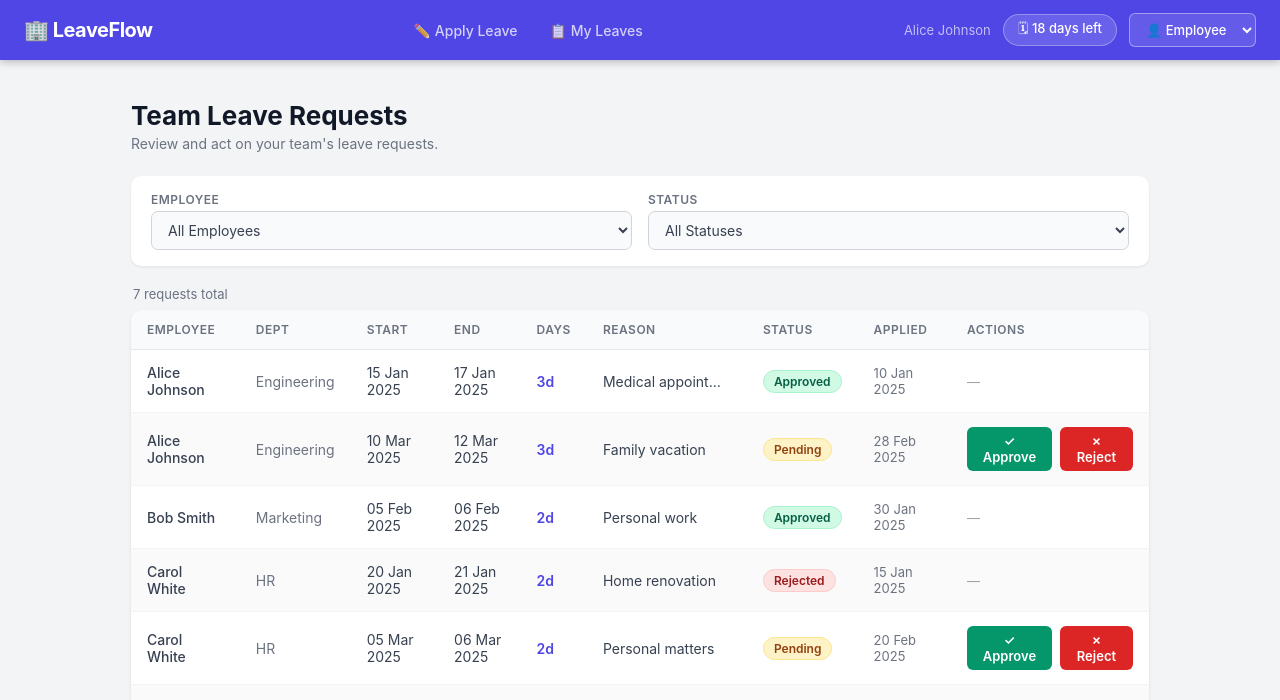
Leave Management – E2E Tests › Team Leaves – URL-driven filter persistence › loads a shared URL with pre-applied filters
Select "👔 Manager" in the dropdown with test id "role-switcher" at (1193, 30), box [1129,13,1256,47]
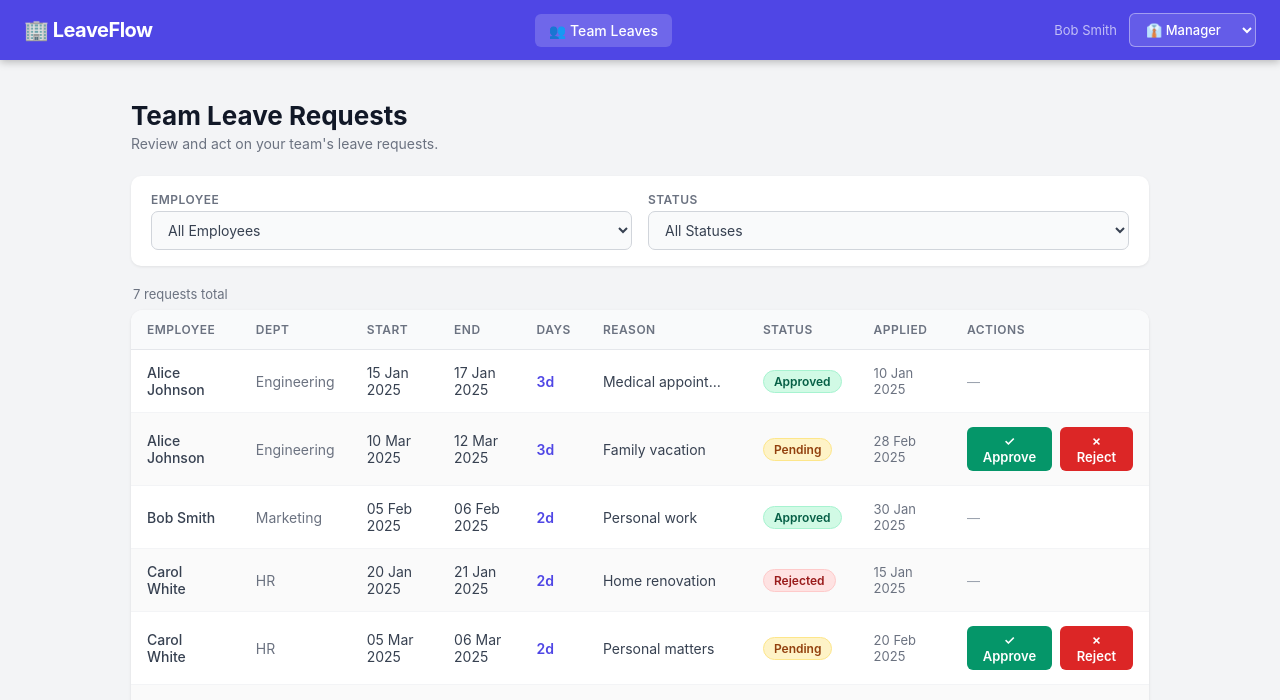
Open "/team-leaves"
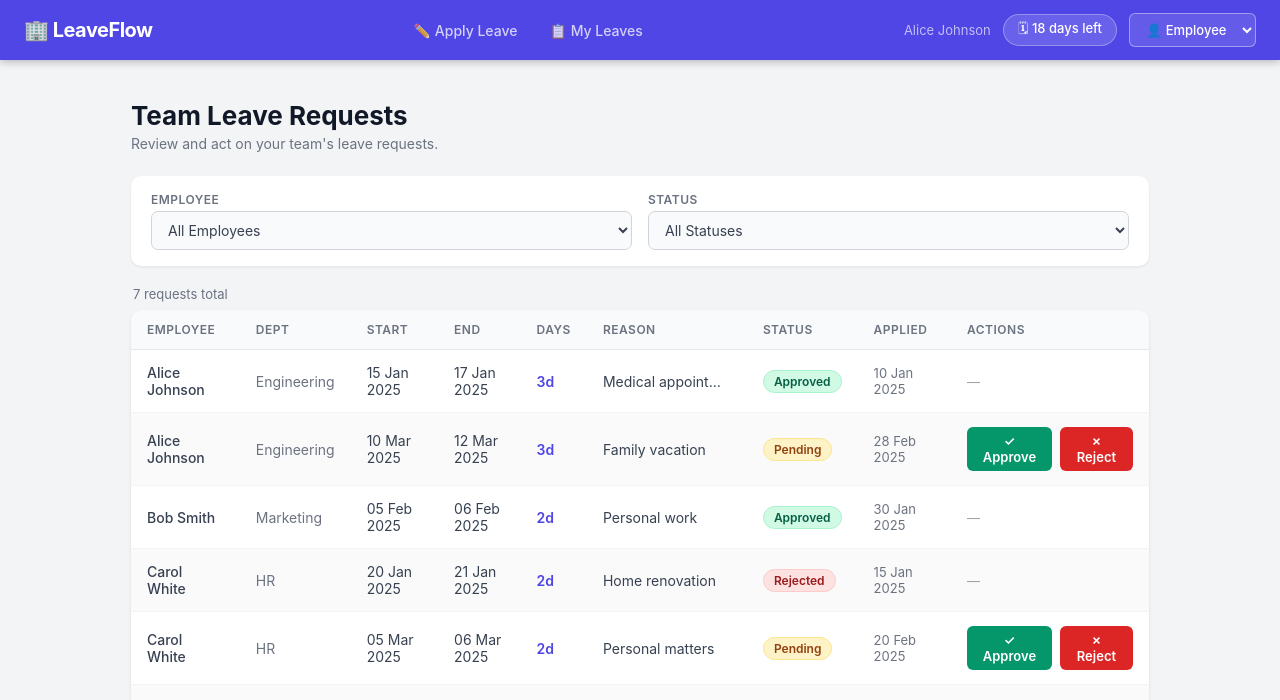
Open "/team-leaves?employee=Bob%20Smith&status=Approved"
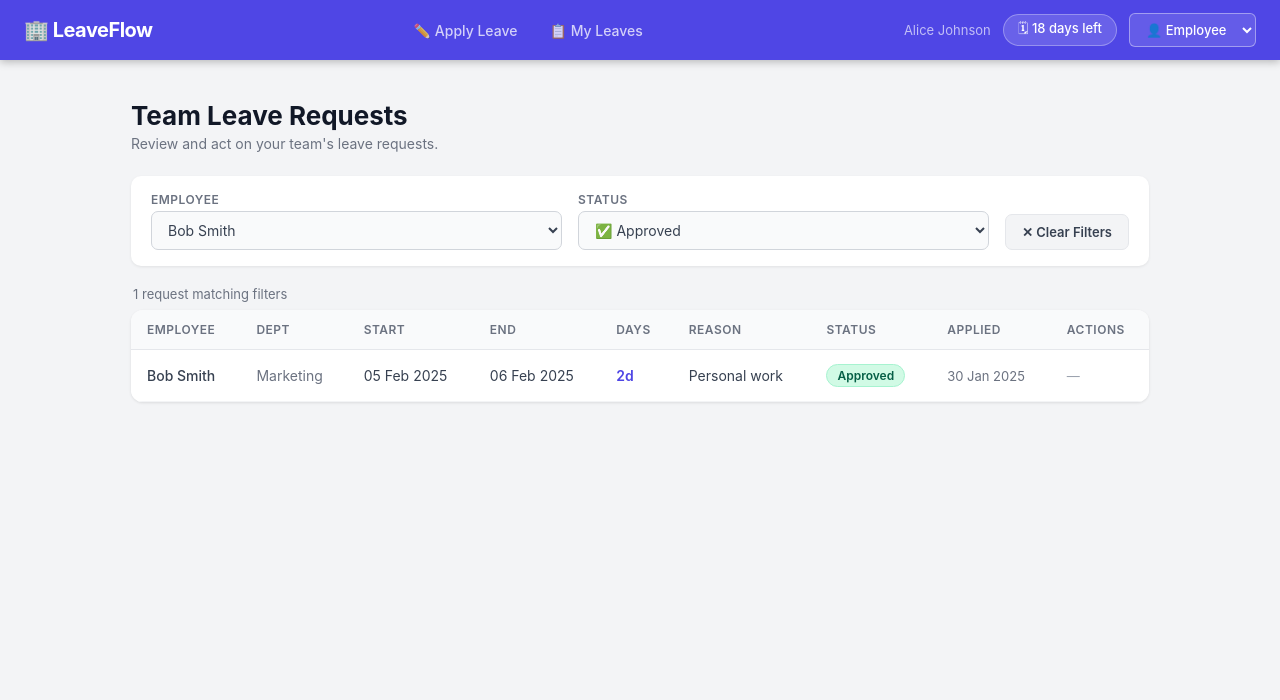
Result: the dropdown with test id "employee-filter" shows "Bob Smith" at [151,211,562,250]
Result: the dropdown with test id "status-filter" shows "✅ Approved" at [578,211,989,250]
